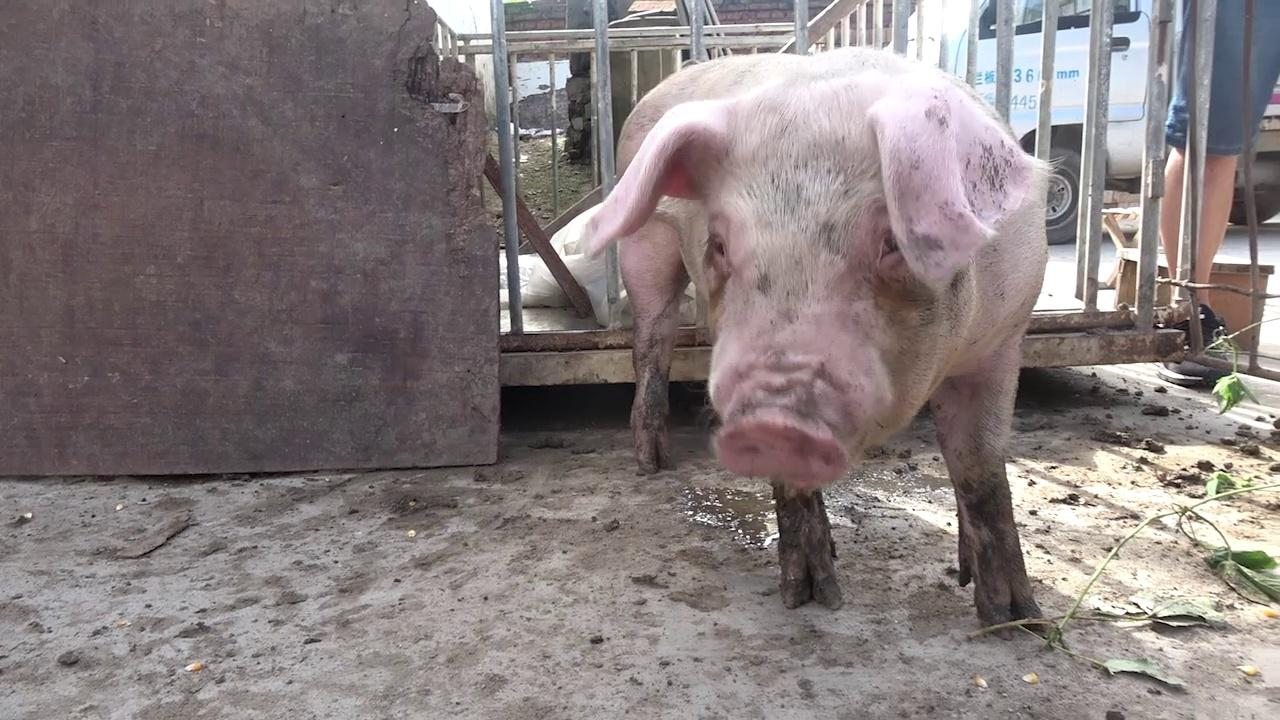Face: (560, 73, 1060, 496)
